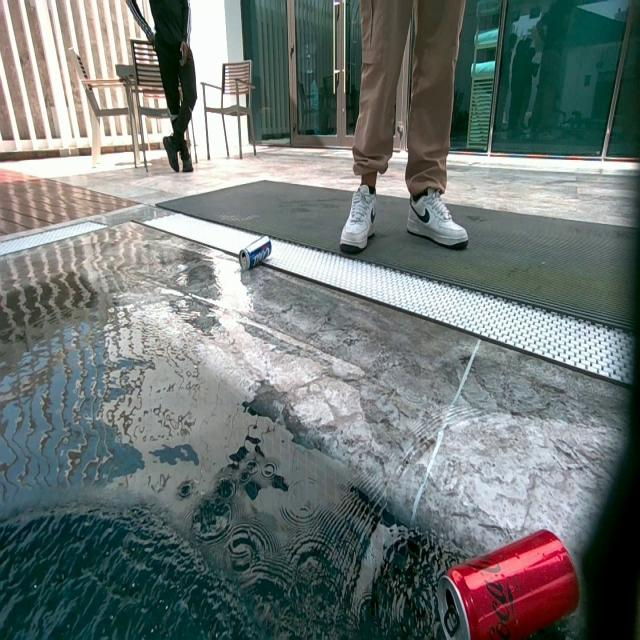Cans: (433, 528, 581, 638), (238, 238, 274, 271)
